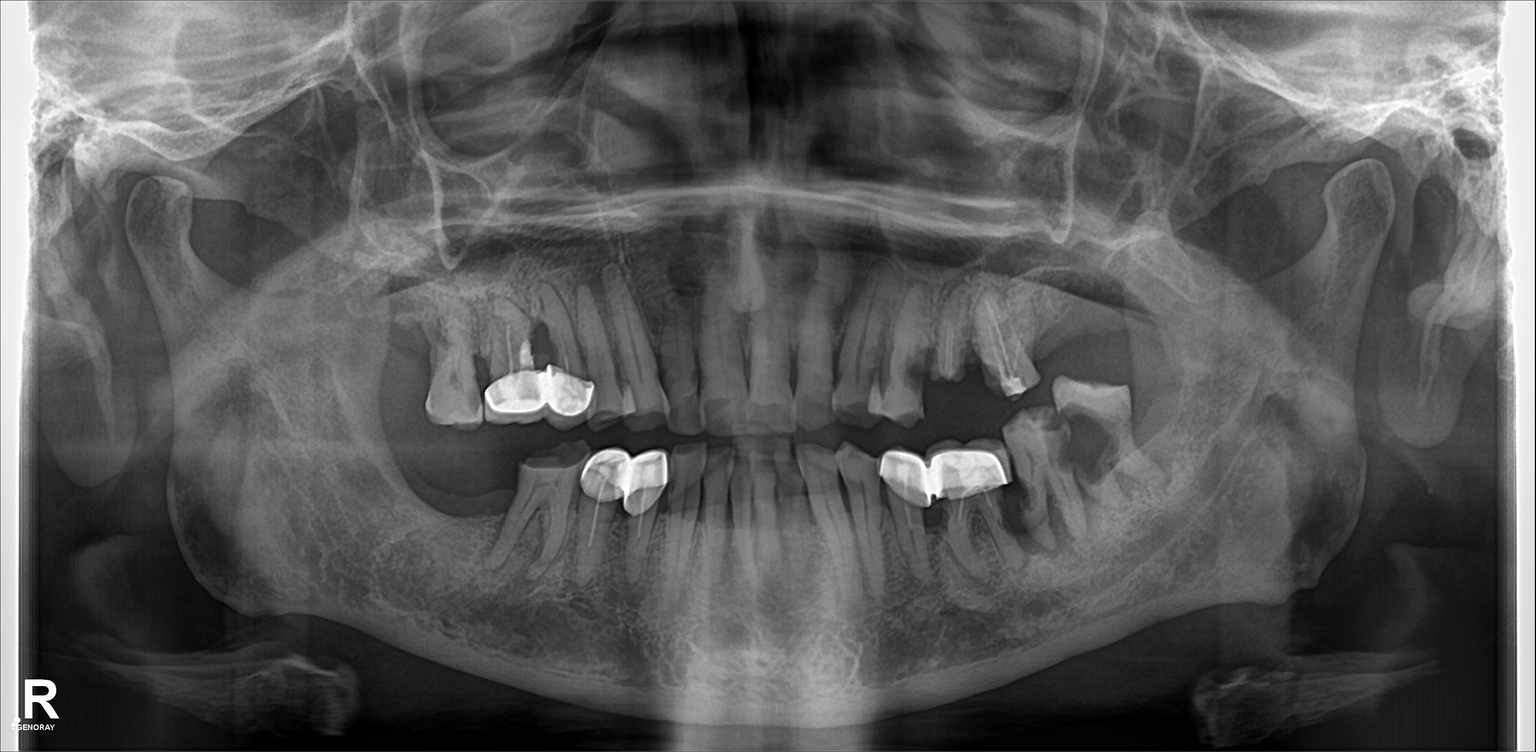Dental Caries: (1056, 402, 1117, 477)
Endodontically Treated Tooth: (939, 439, 1001, 578), (482, 307, 548, 423), (877, 456, 940, 575), (976, 292, 1032, 399), (549, 298, 597, 422), (618, 448, 661, 570), (575, 454, 618, 569)
Missing Tooth: (385, 441, 438, 563), (443, 454, 498, 554), (393, 300, 438, 422), (1078, 262, 1123, 364), (1035, 281, 1077, 371)
Retained Root: (937, 296, 965, 393)
